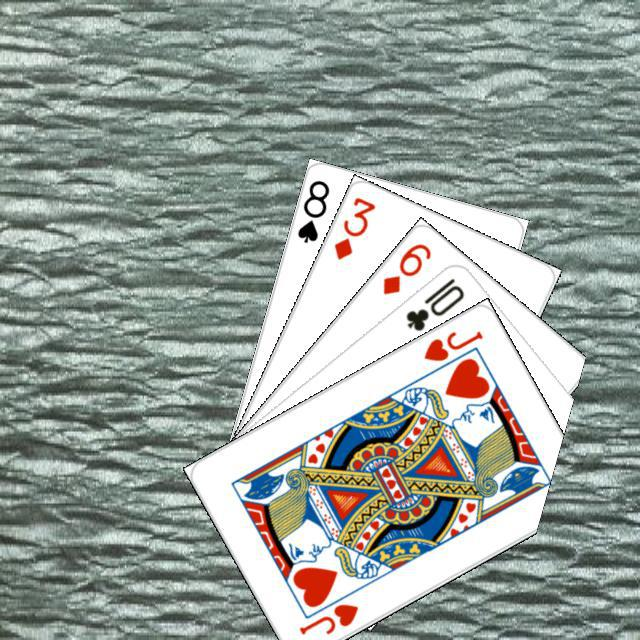10c: (400, 273, 466, 333)
3d: (329, 192, 378, 262)
6d: (377, 238, 433, 297)
8s: (292, 175, 331, 245)
Jh: (294, 598, 360, 637), (418, 325, 485, 363)
